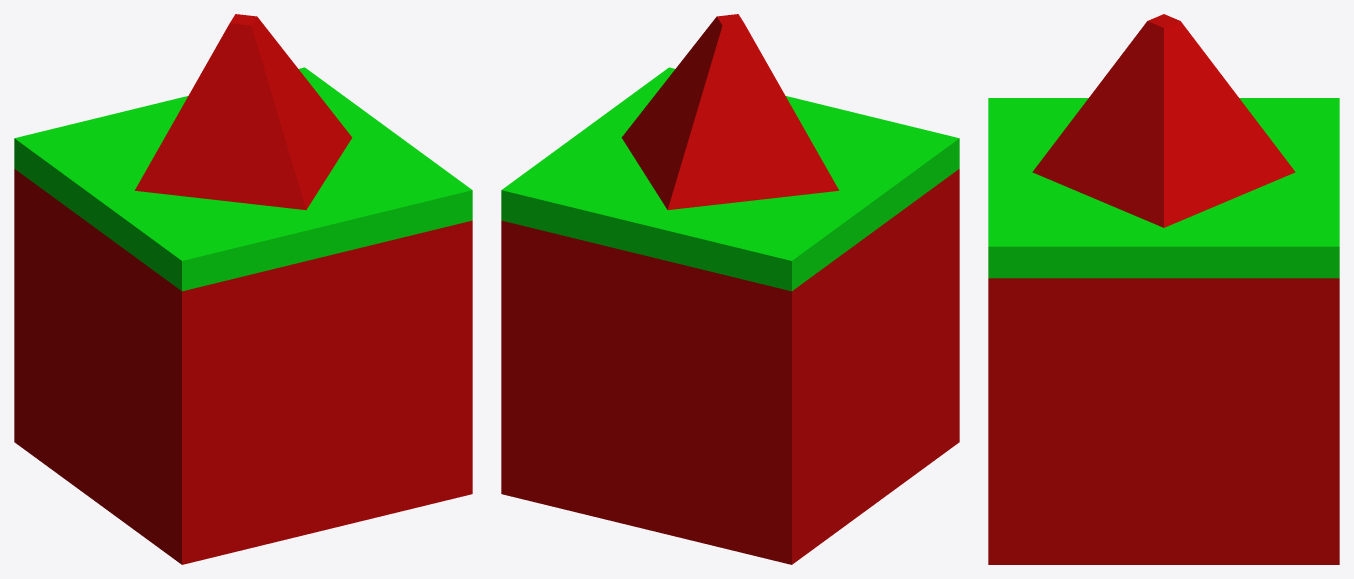
Rendered from cubes-CubeGreen.glb.
The picture shows the model from 3 angles, left to right: view 1: azimuth 30°, elevation 25°; view 2: azimuth 150°, elevation 25°; view 3: azimuth 270°, elevation 25°; orthographic projection. The views are drawn at different scales.
Parts seen in each view (by area): view 1: Pick&Place.Cube; view 2: Pick&Place.Cube; view 3: Pick&Place.Cube.
Boxes of the visible parts, box(x1,y1,x2,y2) form: Pick&Place.Cube: box(14, 14, 472, 564); Pick&Place.Cube: box(501, 14, 959, 564); Pick&Place.Cube: box(988, 14, 1339, 564).
Bounding box in the file's own units: 0.04 × 0.059 × 0.04.
